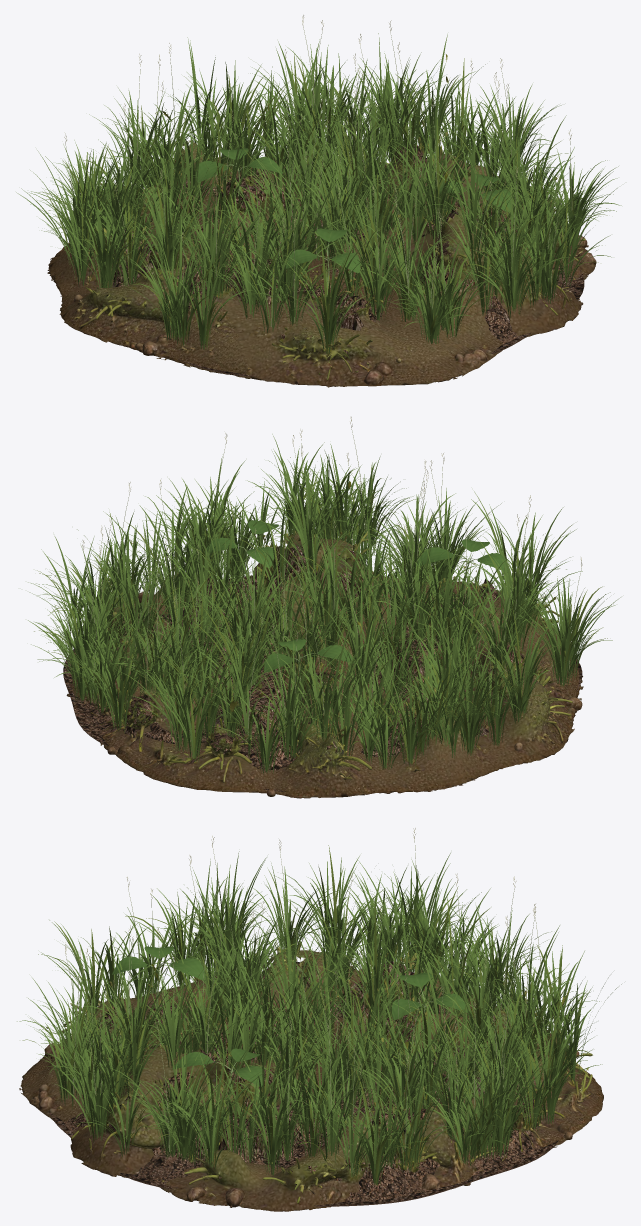
3 views of the same model, one above another, from view 1: azimuth 30°, elevation 25°; view 2: azimuth 150°, elevation 25°; view 3: azimuth 270°, elevation 25° (orthographic). The views are drawn at different scales.
Visible parts, largest first — view 1: Abundant narrow-bladed weeds, tripo_node_4cbcba06-f31e-4202-b951-6dcbfec51de6, Continuous closed textured-earth support, Natural fine stems, Exactly three sparse trifoliate bean plants; view 2: Abundant narrow-bladed weeds, tripo_node_4cbcba06-f31e-4202-b951-6dcbfec51de6, Continuous closed textured-earth support, Natural fine stems, Exactly three sparse trifoliate bean plants; view 3: Abundant narrow-bladed weeds, tripo_node_4cbcba06-f31e-4202-b951-6dcbfec51de6, Continuous closed textured-earth support, Natural fine stems, Exactly three sparse trifoliate bean plants.
Part boxes in pixels (x1=…): Abundant narrow-bladed weeds: x1=16, y1=33, x2=621, y2=353; tripo_node_4cbcba06-f31e-4202-b951-6dcbfec51de6: x1=47, y1=54, x2=596, y2=387; Continuous closed textured-earth support: x1=104, y1=145, x2=584, y2=376; Natural fine stems: x1=64, y1=15, x2=572, y2=326; Exactly three sparse trifoliate bean plants: x1=196, y1=148, x2=510, y2=273; Abundant narrow-bladed weeds: x1=28, y1=434, x2=620, y2=774; tripo_node_4cbcba06-f31e-4202-b951-6dcbfec51de6: x1=66, y1=457, x2=583, y2=798; Continuous closed textured-earth support: x1=63, y1=544, x2=582, y2=791; Natural fine stems: x1=82, y1=417, x2=582, y2=738; Exactly three sparse trifoliate bean plants: x1=204, y1=520, x2=507, y2=672; Abundant narrow-bladed weeds: x1=17, y1=845, x2=621, y2=1185; tripo_node_4cbcba06-f31e-4202-b951-6dcbfec51de6: x1=19, y1=930, x2=603, y2=1211; Continuous closed textured-earth support: x1=49, y1=961, x2=558, y2=1206; Natural fine stems: x1=65, y1=828, x2=543, y2=1172; Exactly three sparse trifoliate bean plants: x1=112, y1=946, x2=467, y2=1087.
Size of the model in its own units: 1.08 by 0.3858 by 1.07.
5 materials, 4 textured.
